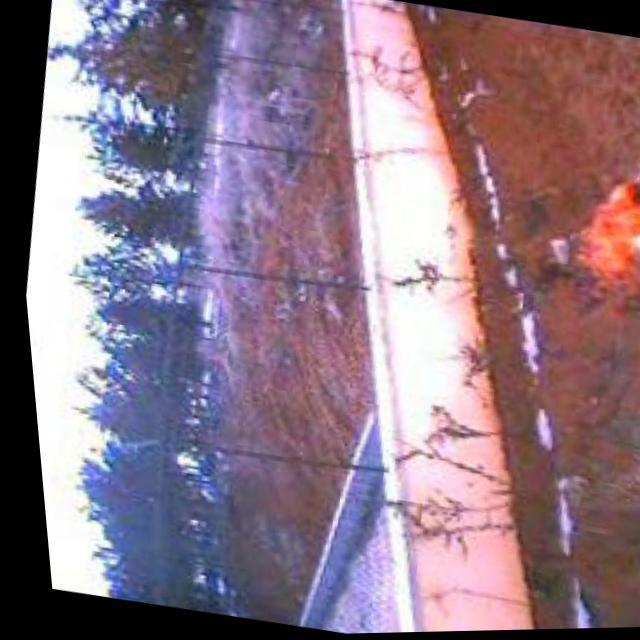fire: (544, 150, 640, 330)
